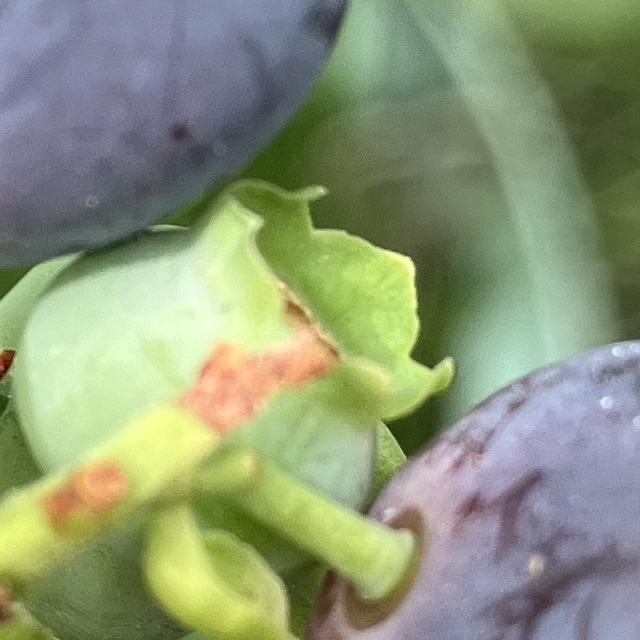Blueberries: (287, 330, 640, 640), (0, 0, 359, 277)
